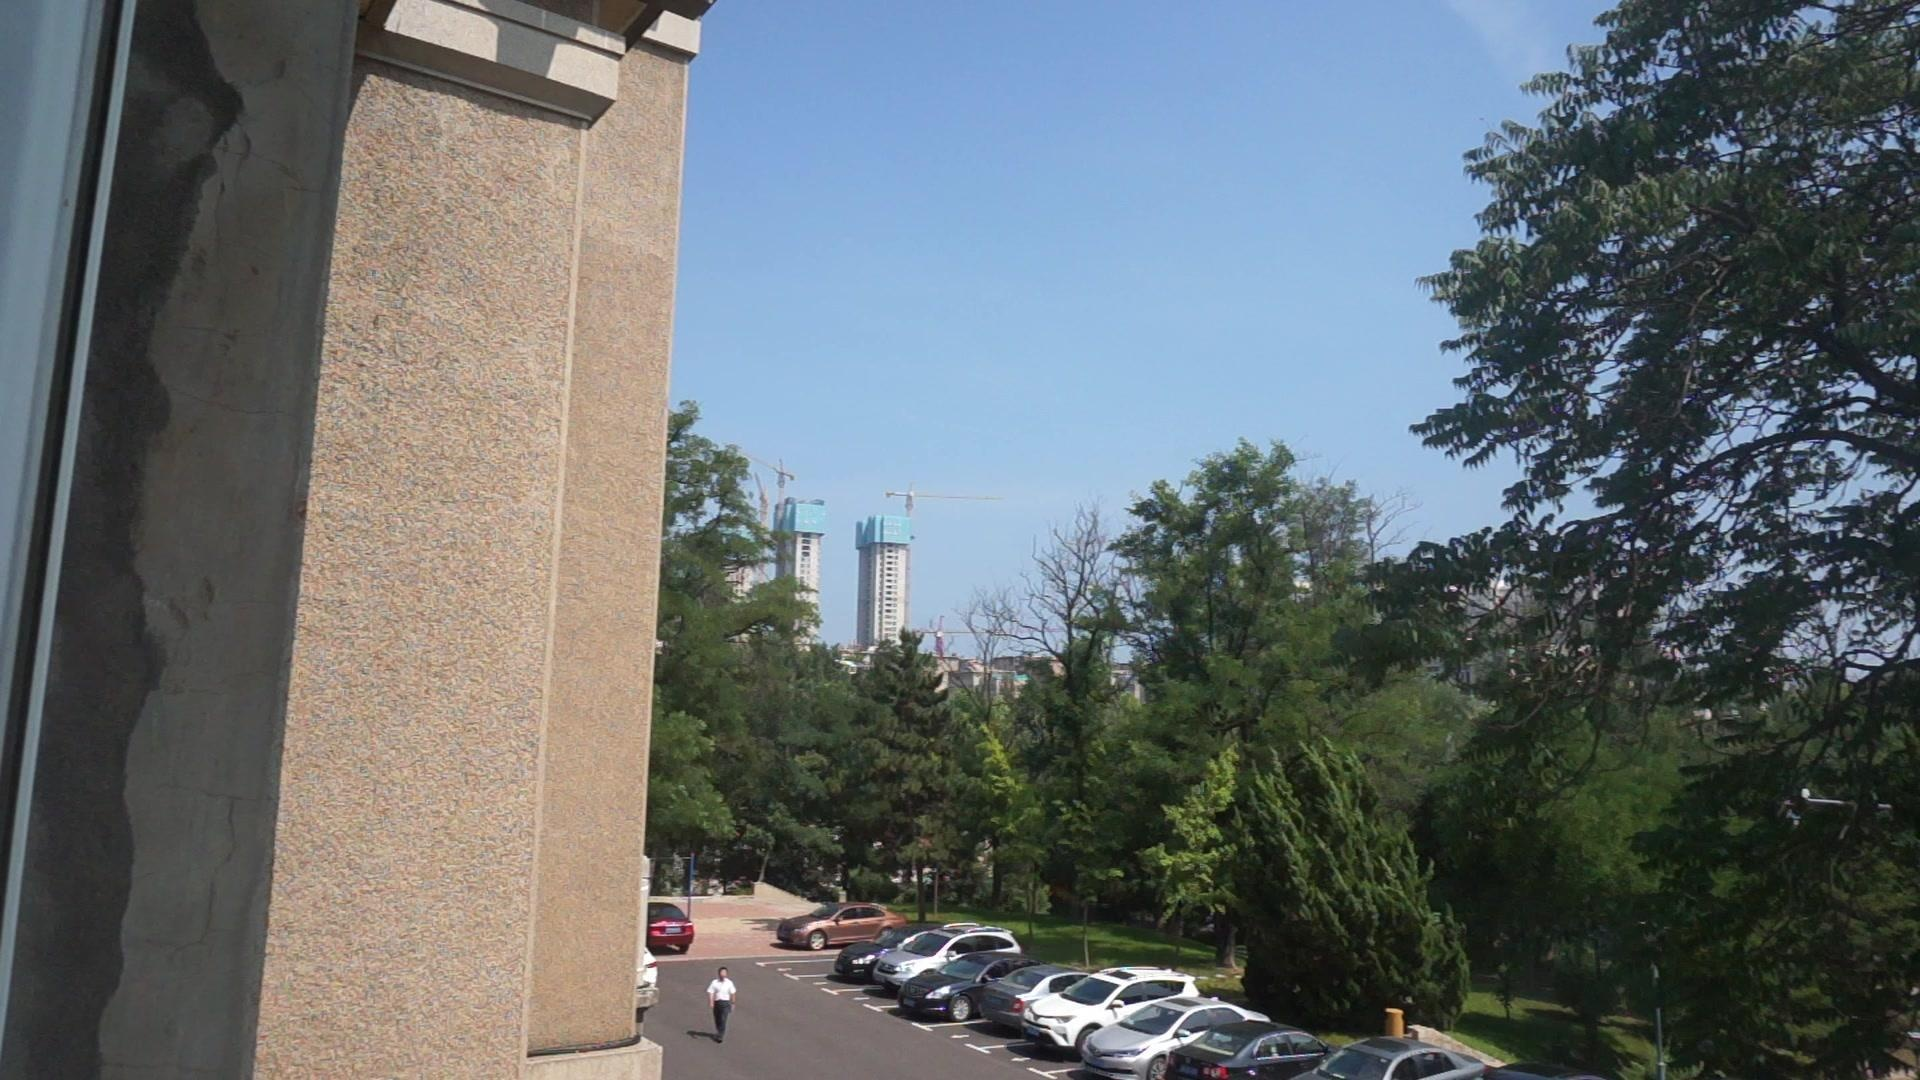UAV: (835, 659, 866, 675)
